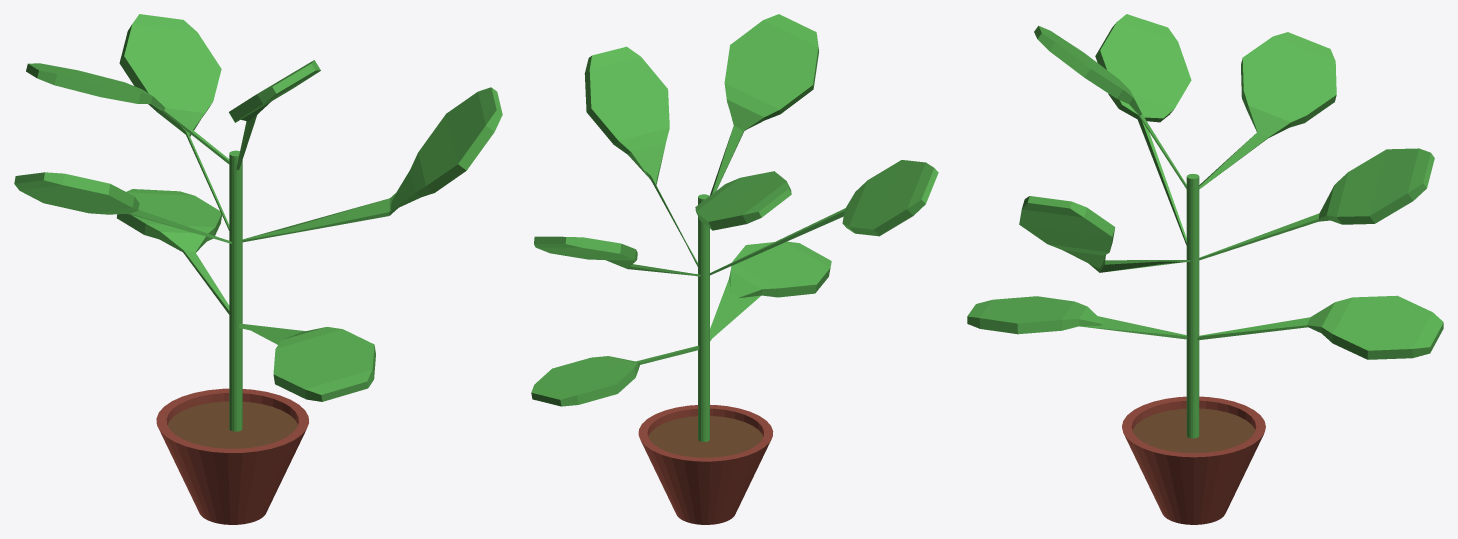
Rendered from flower.fbx.
3 renders of one model, left to right at view 1: azimuth 30°, elevation 25°; view 2: azimuth 150°, elevation 25°; view 3: azimuth 270°, elevation 25°, orthographic. The views are drawn at different scales.
Visible parts, largest first — view 1: Flower; view 2: Flower; view 3: Flower.
Part boxes in pixels (x1,y1,x2,y2): Flower: (14, 14, 502, 524); Flower: (531, 14, 938, 524); Flower: (967, 14, 1443, 524).
Size of the model in its own units: 2.42 by 2.71 by 2.45.
